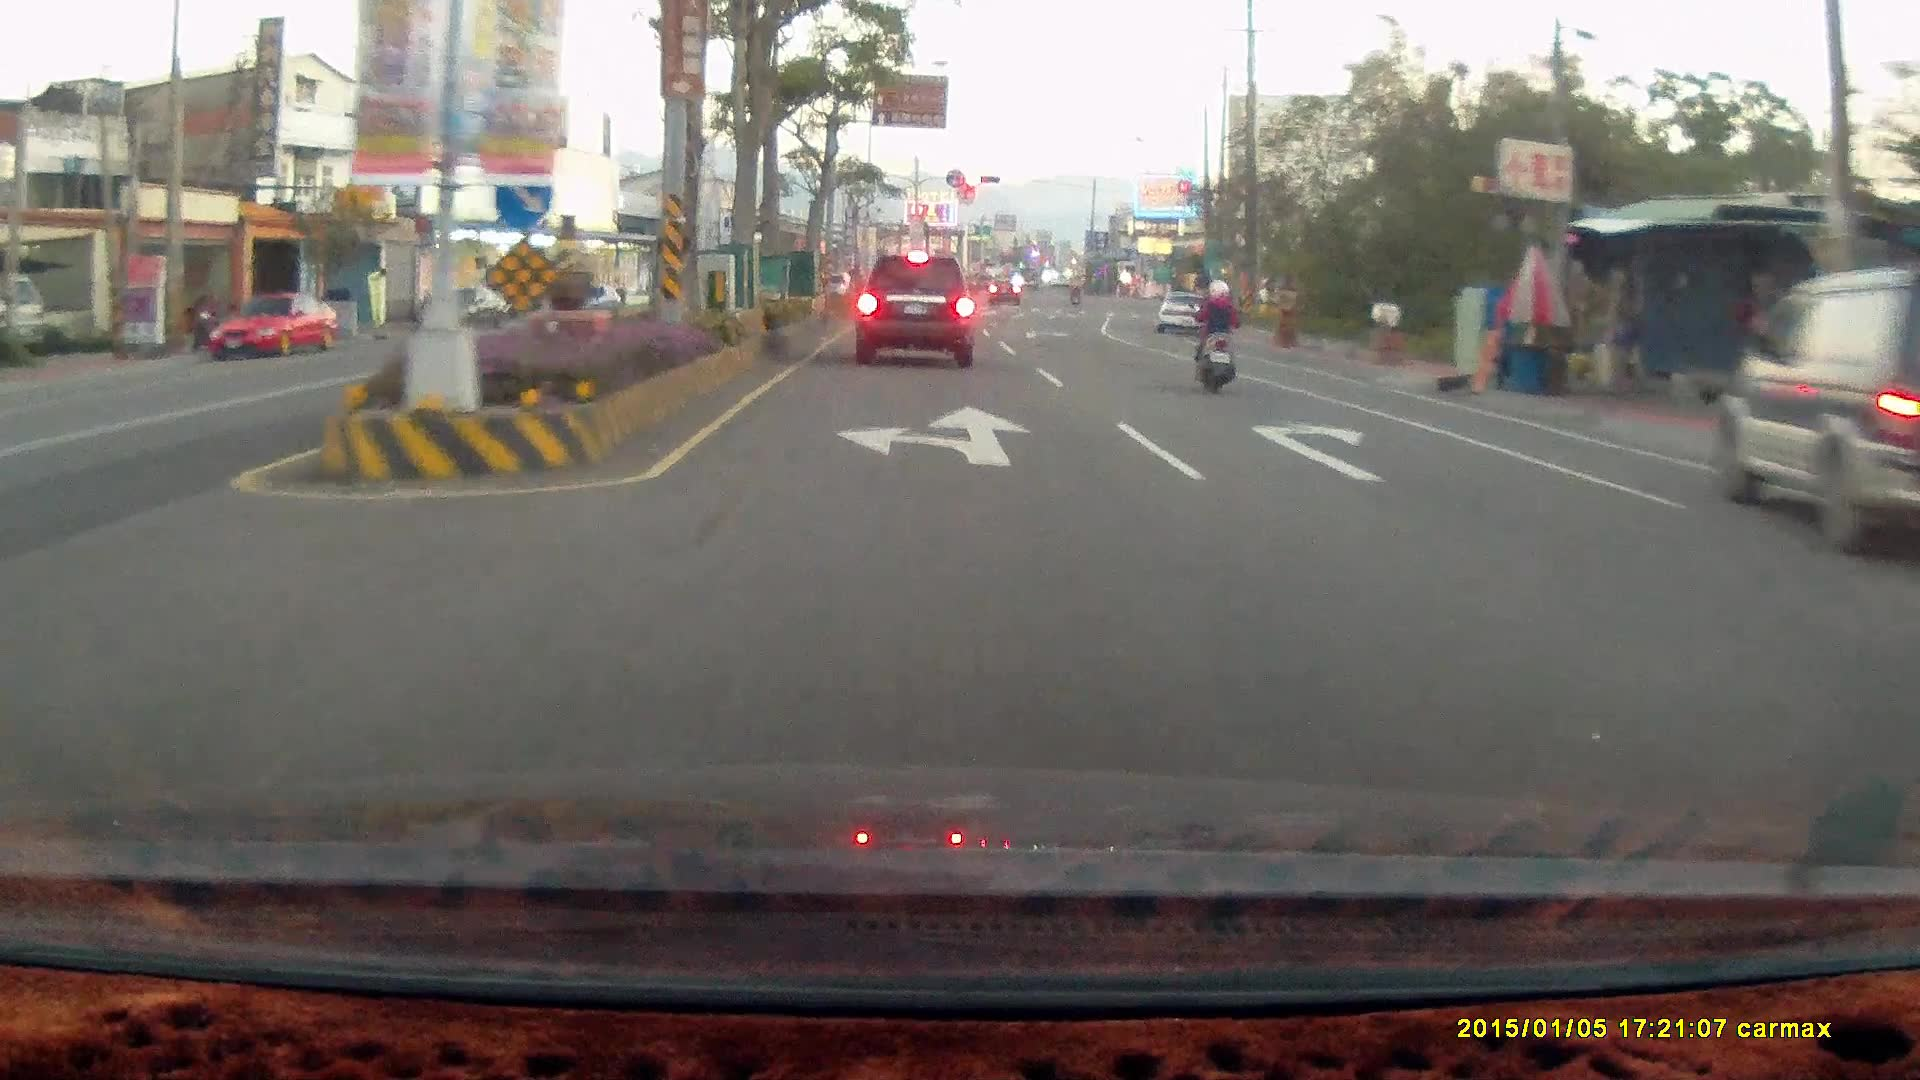rider: (1189, 277, 1237, 396)
vehicle: (1716, 267, 1920, 556), (854, 253, 973, 366), (207, 292, 343, 363), (1896, 493, 1920, 836), (1883, 528, 1920, 690), (417, 292, 516, 339), (1156, 291, 1215, 338), (1156, 291, 1214, 335)
